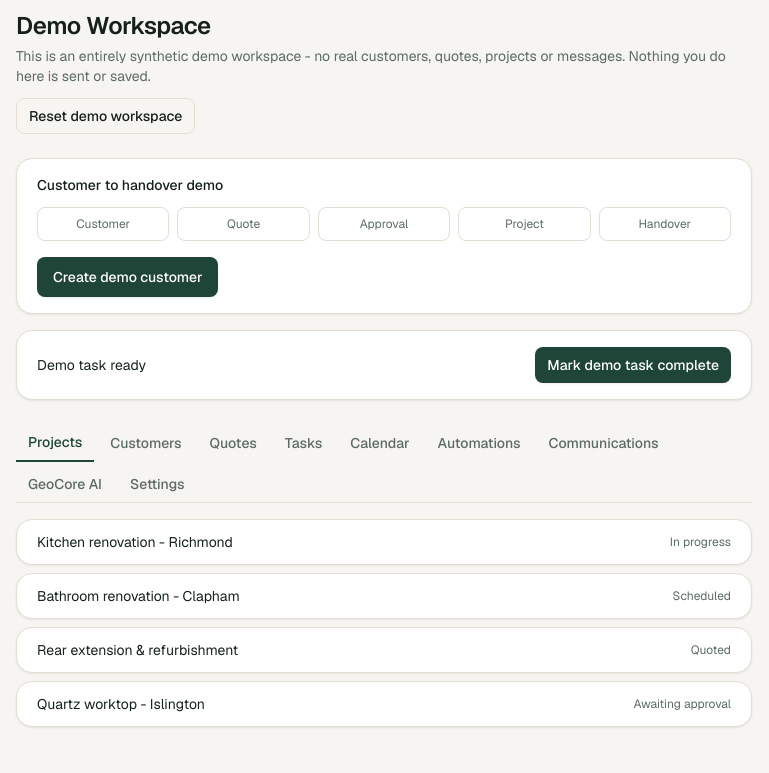
Test: Demo Workspace › provides_a_safe_local_geocore_ai_simulation
Click the tab "GeoCore AI" at (65, 484), box [16,466,114,502]
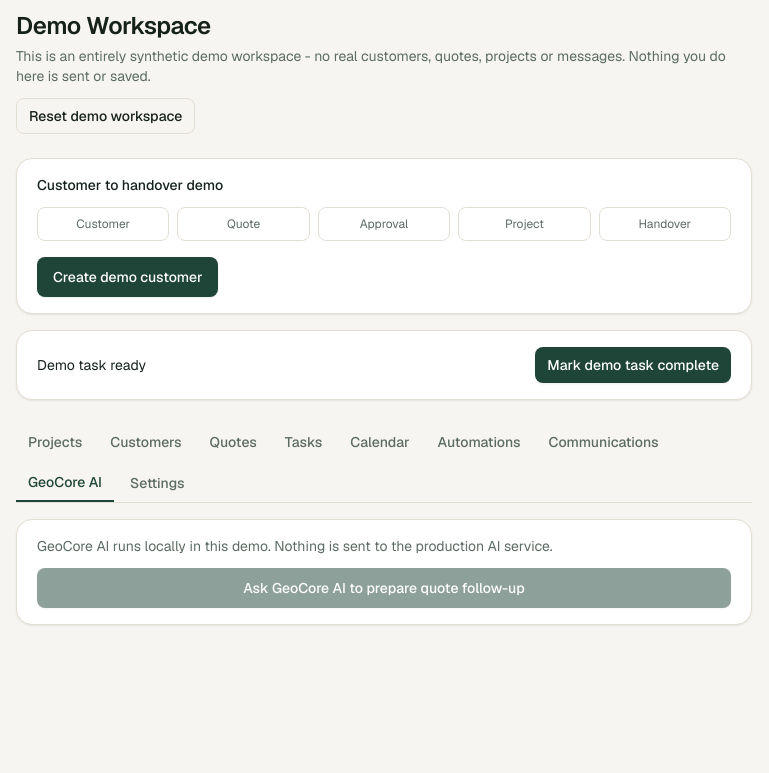
Expected: the button "Ask GeoCore AI to prepare quote follow-up" is disabled, [37,568,731,608]
Click the tab "Projects" at (55, 442), box [16,424,94,460]
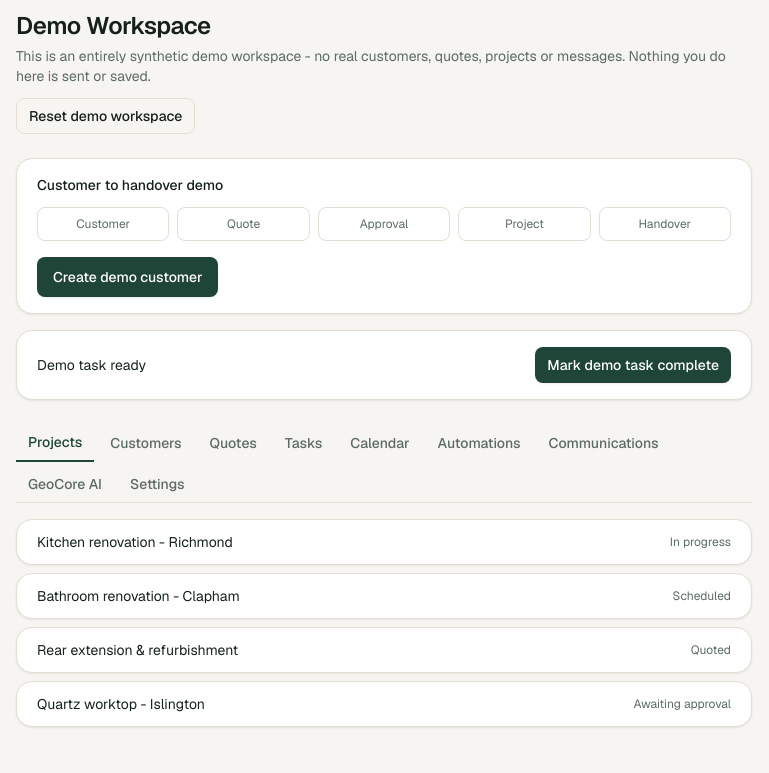
Click the button "Create demo customer" at (128, 277), box [37,257,218,297]
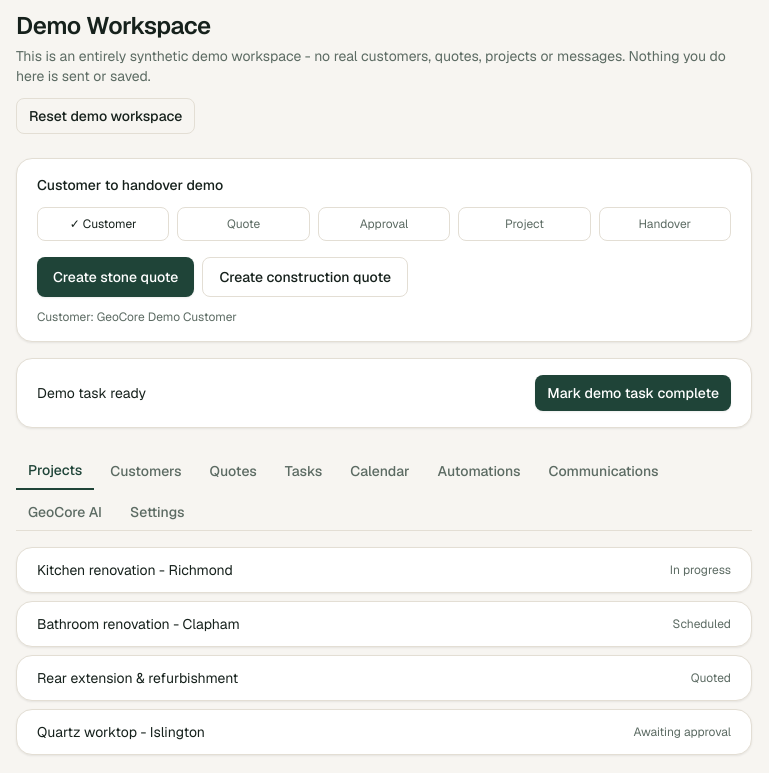
Click the button "Create stone quote" at (116, 277), box [37,257,194,297]
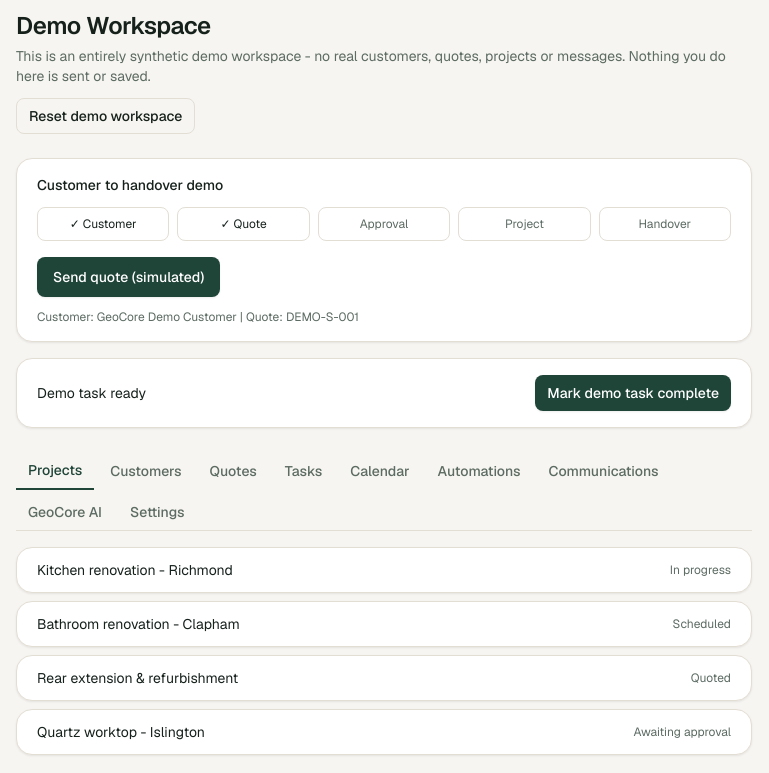
Click the tab "GeoCore AI" at (65, 512), box [16,494,114,530]
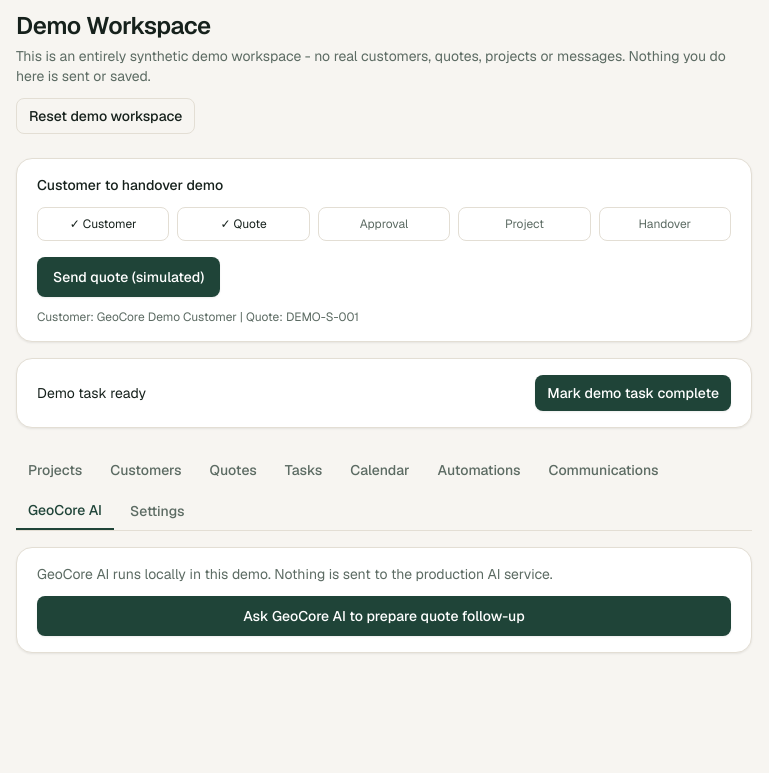
Click the button "Ask GeoCore AI to prepare quote follow-up" at (384, 616), box [37,596,731,636]
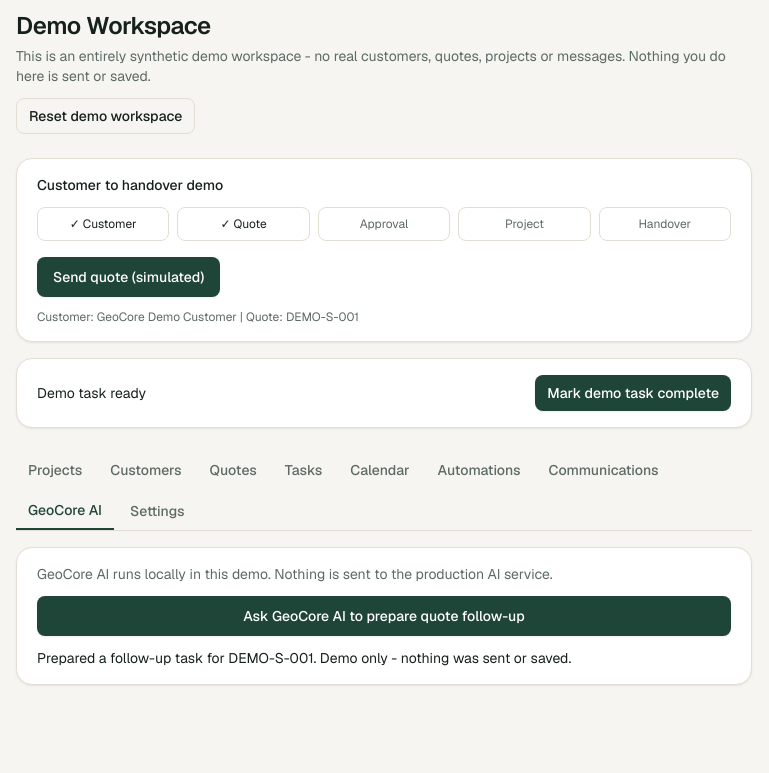
Expected: the text "Prepared a follow-up task for DEMO-S-001. Demo only - nothing was sent or saved." is shown, [37,649,571,667]
